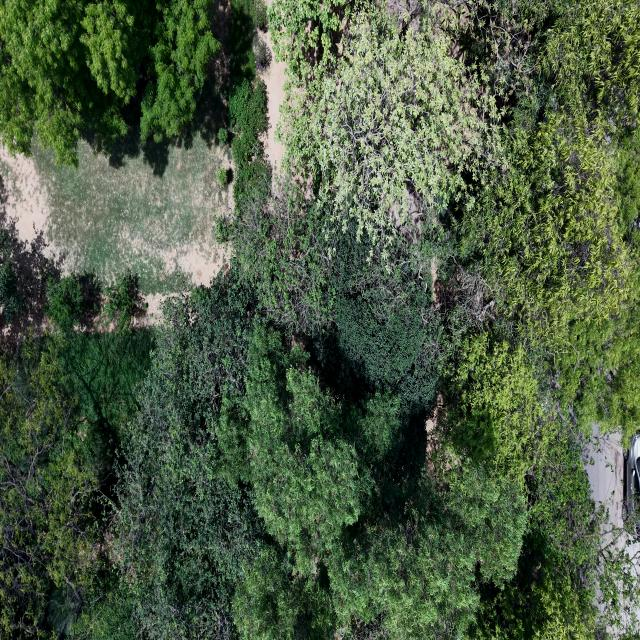DRY_AREA: (0, 135, 233, 338), (0, 139, 232, 316), (259, 31, 285, 179)
VEGETATION_TREE: (0, 0, 639, 639), (235, 325, 526, 637), (454, 2, 638, 349), (271, 2, 500, 254), (110, 277, 263, 639), (0, 333, 150, 639), (0, 0, 219, 164), (469, 545, 600, 639), (556, 306, 639, 439), (141, 0, 219, 141), (60, 329, 152, 425), (81, 1, 149, 100), (45, 275, 83, 334), (0, 230, 21, 323), (104, 275, 138, 330), (0, 258, 20, 323), (216, 167, 228, 185), (218, 127, 228, 144)
